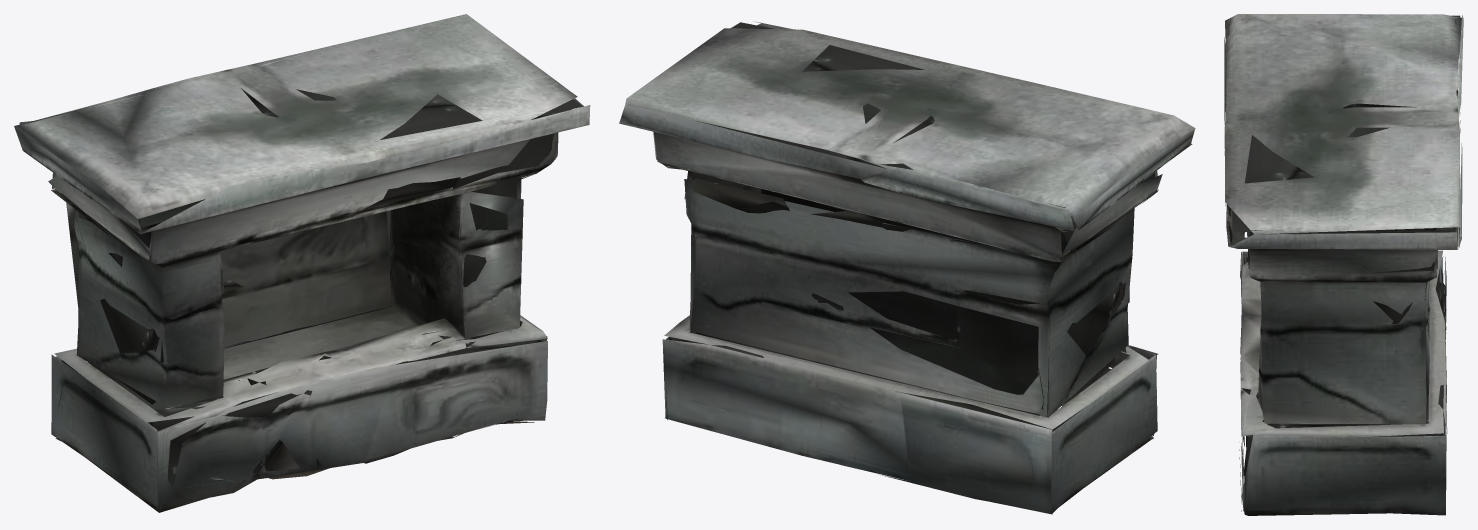
File: arc_wall_niche_2m.glb
3 views of the same model, side by side, from view 1: azimuth 30°, elevation 25°; view 2: azimuth 150°, elevation 25°; view 3: azimuth 270°, elevation 25° (orthographic). The views are drawn at different scales.
Bounding box in the file's own units: 3.34 × 2.29 × 1.58.
Materials: 1 (1 with a texture image).
